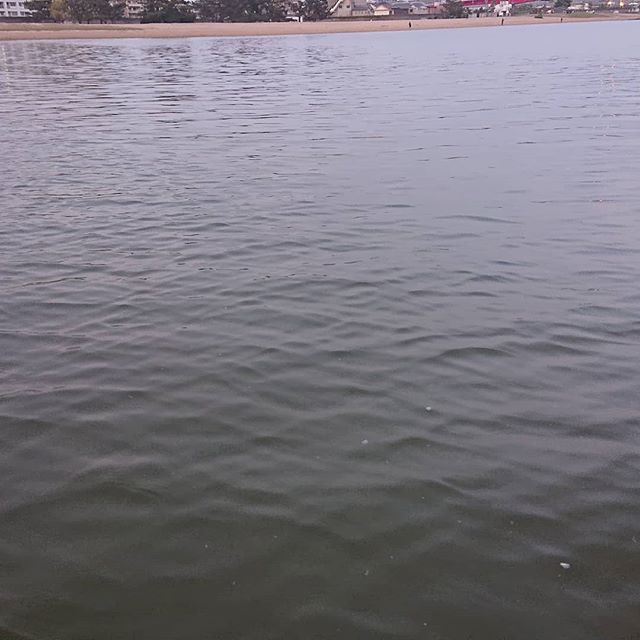river: (20, 41, 640, 640)
